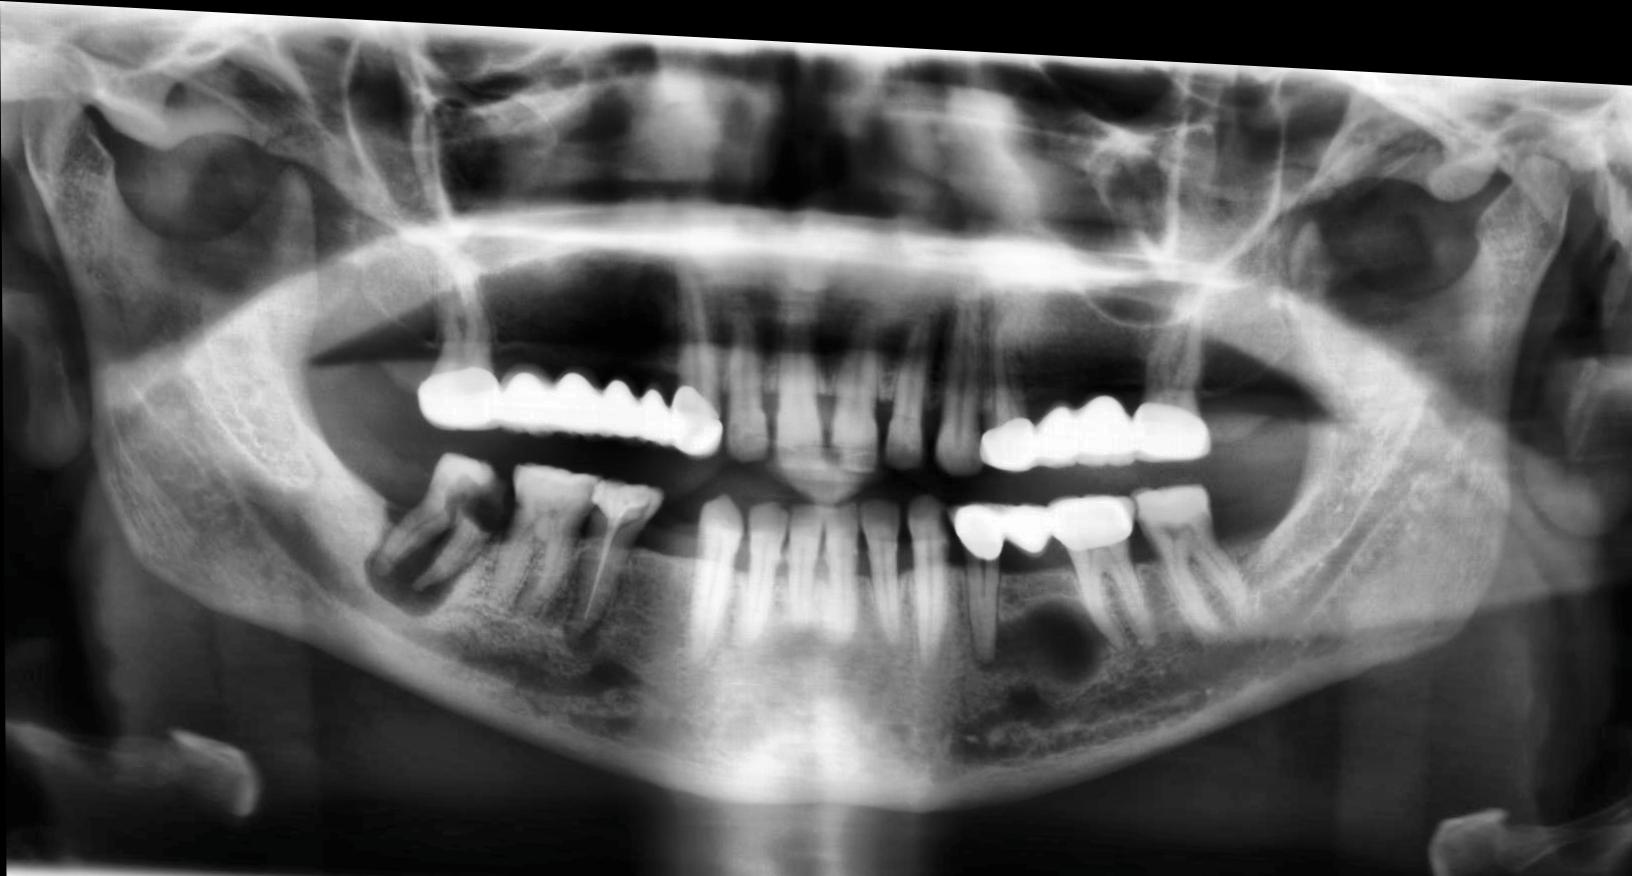radicular: (969, 577, 1109, 679), (361, 537, 458, 618)
